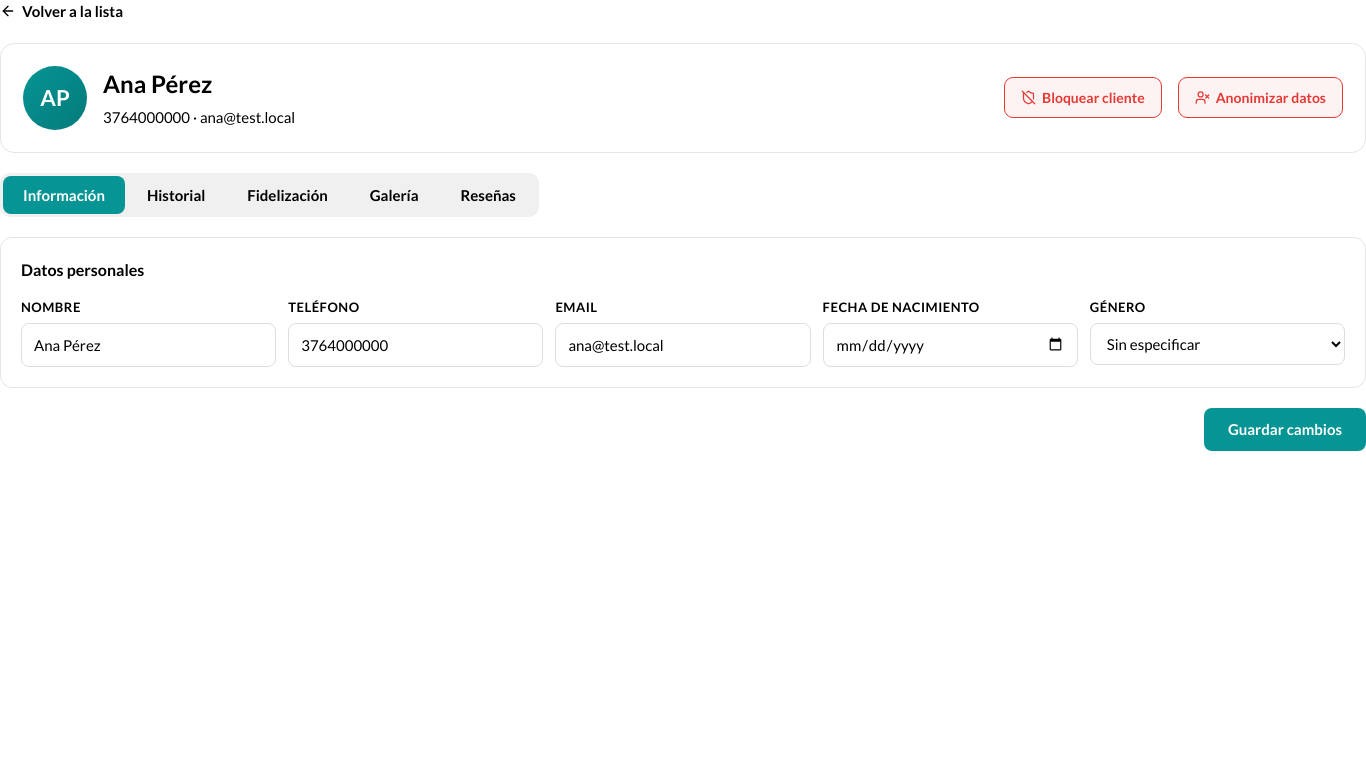
Test: ClientDetail: anonimizar datos de la clienta › si el servidor falla muestra el error y no el mensaje de éxito
Click the button "Anonimizar datos": (1260, 98) [1178, 77, 1343, 118]
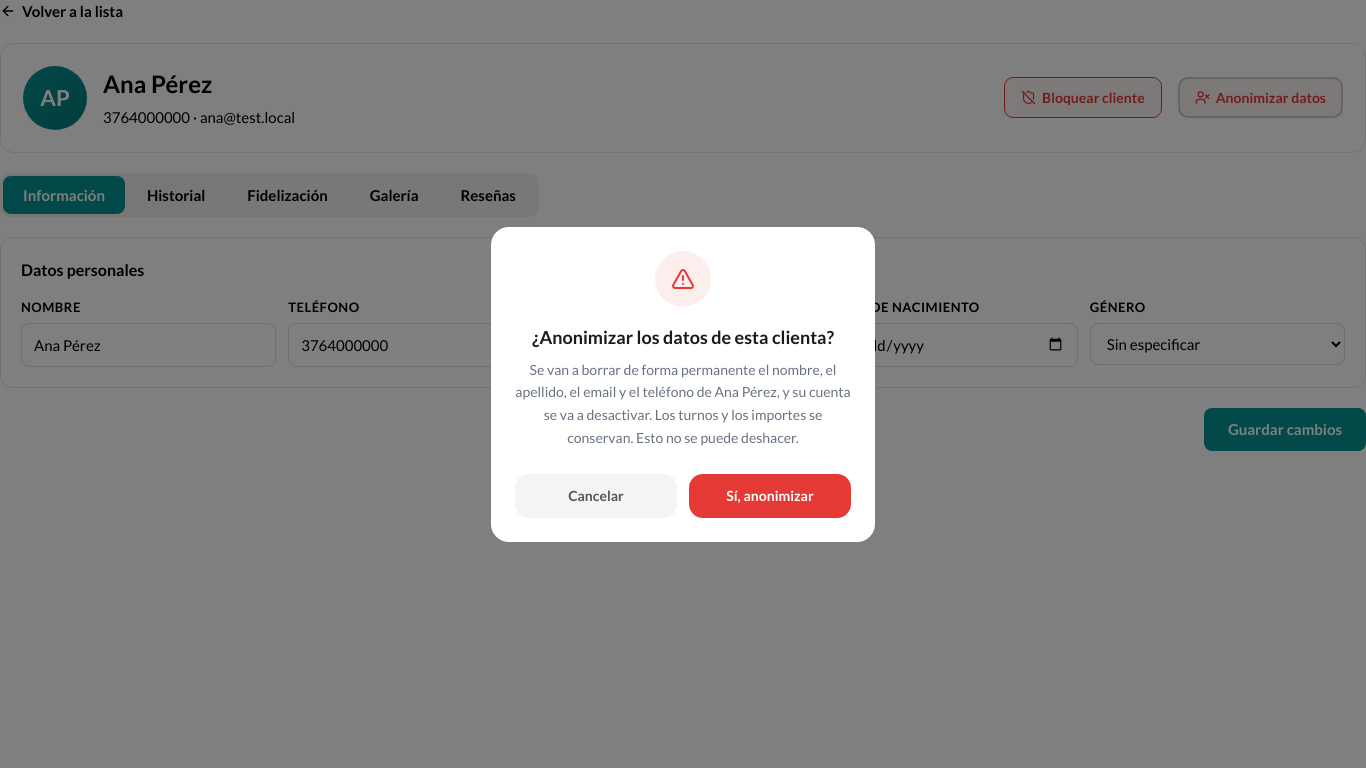
Click the button "Sí, anonimizar": (770, 496) [689, 474, 851, 518]
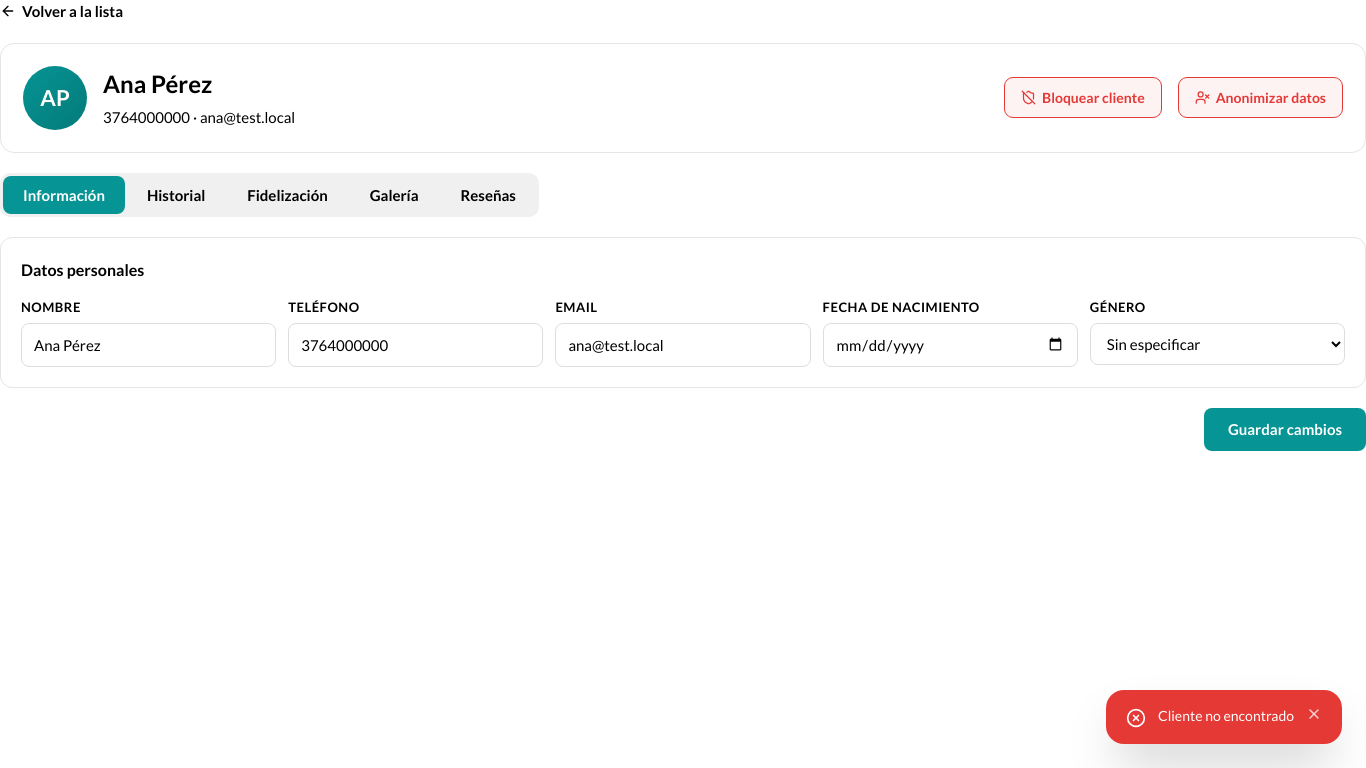
Check: the text "Cliente no encontrado" is shown, box [1158, 706, 1294, 725]
